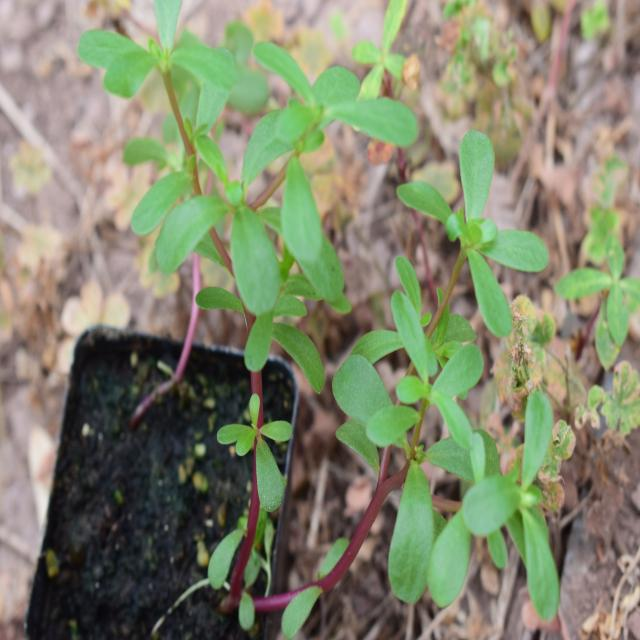purslane: (106, 11, 557, 589)
